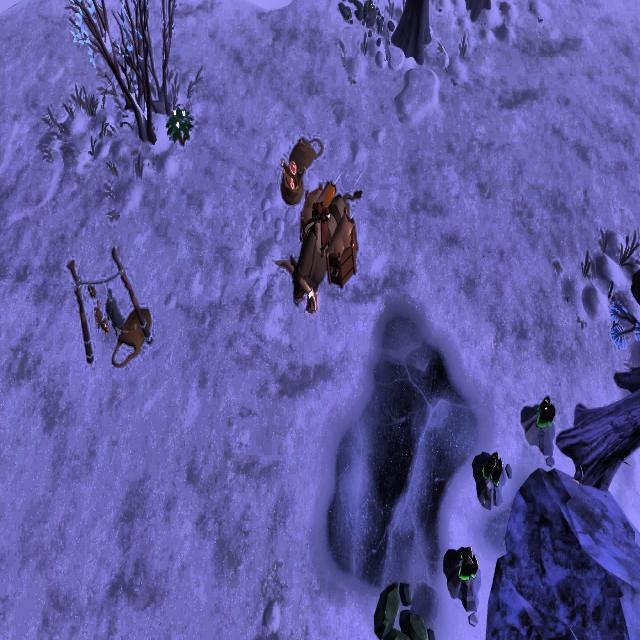fiber_t3: (164, 99, 194, 150)
ore_t3: (534, 394, 556, 437), (481, 452, 505, 489), (459, 544, 479, 584)
rock_t3: (362, 565, 440, 640)
